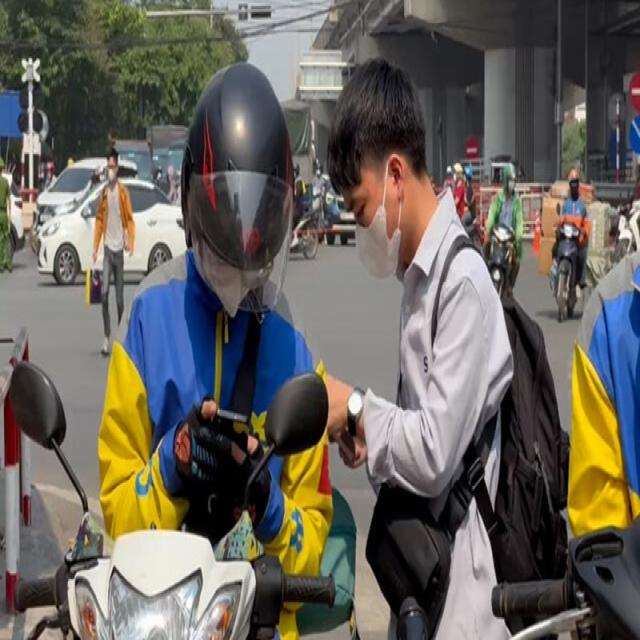no_helmet: (323, 50, 429, 287)
